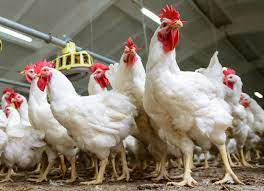Healthy: (138, 2, 249, 189), (29, 56, 141, 188), (15, 63, 96, 188), (102, 34, 161, 183), (217, 58, 263, 173)
